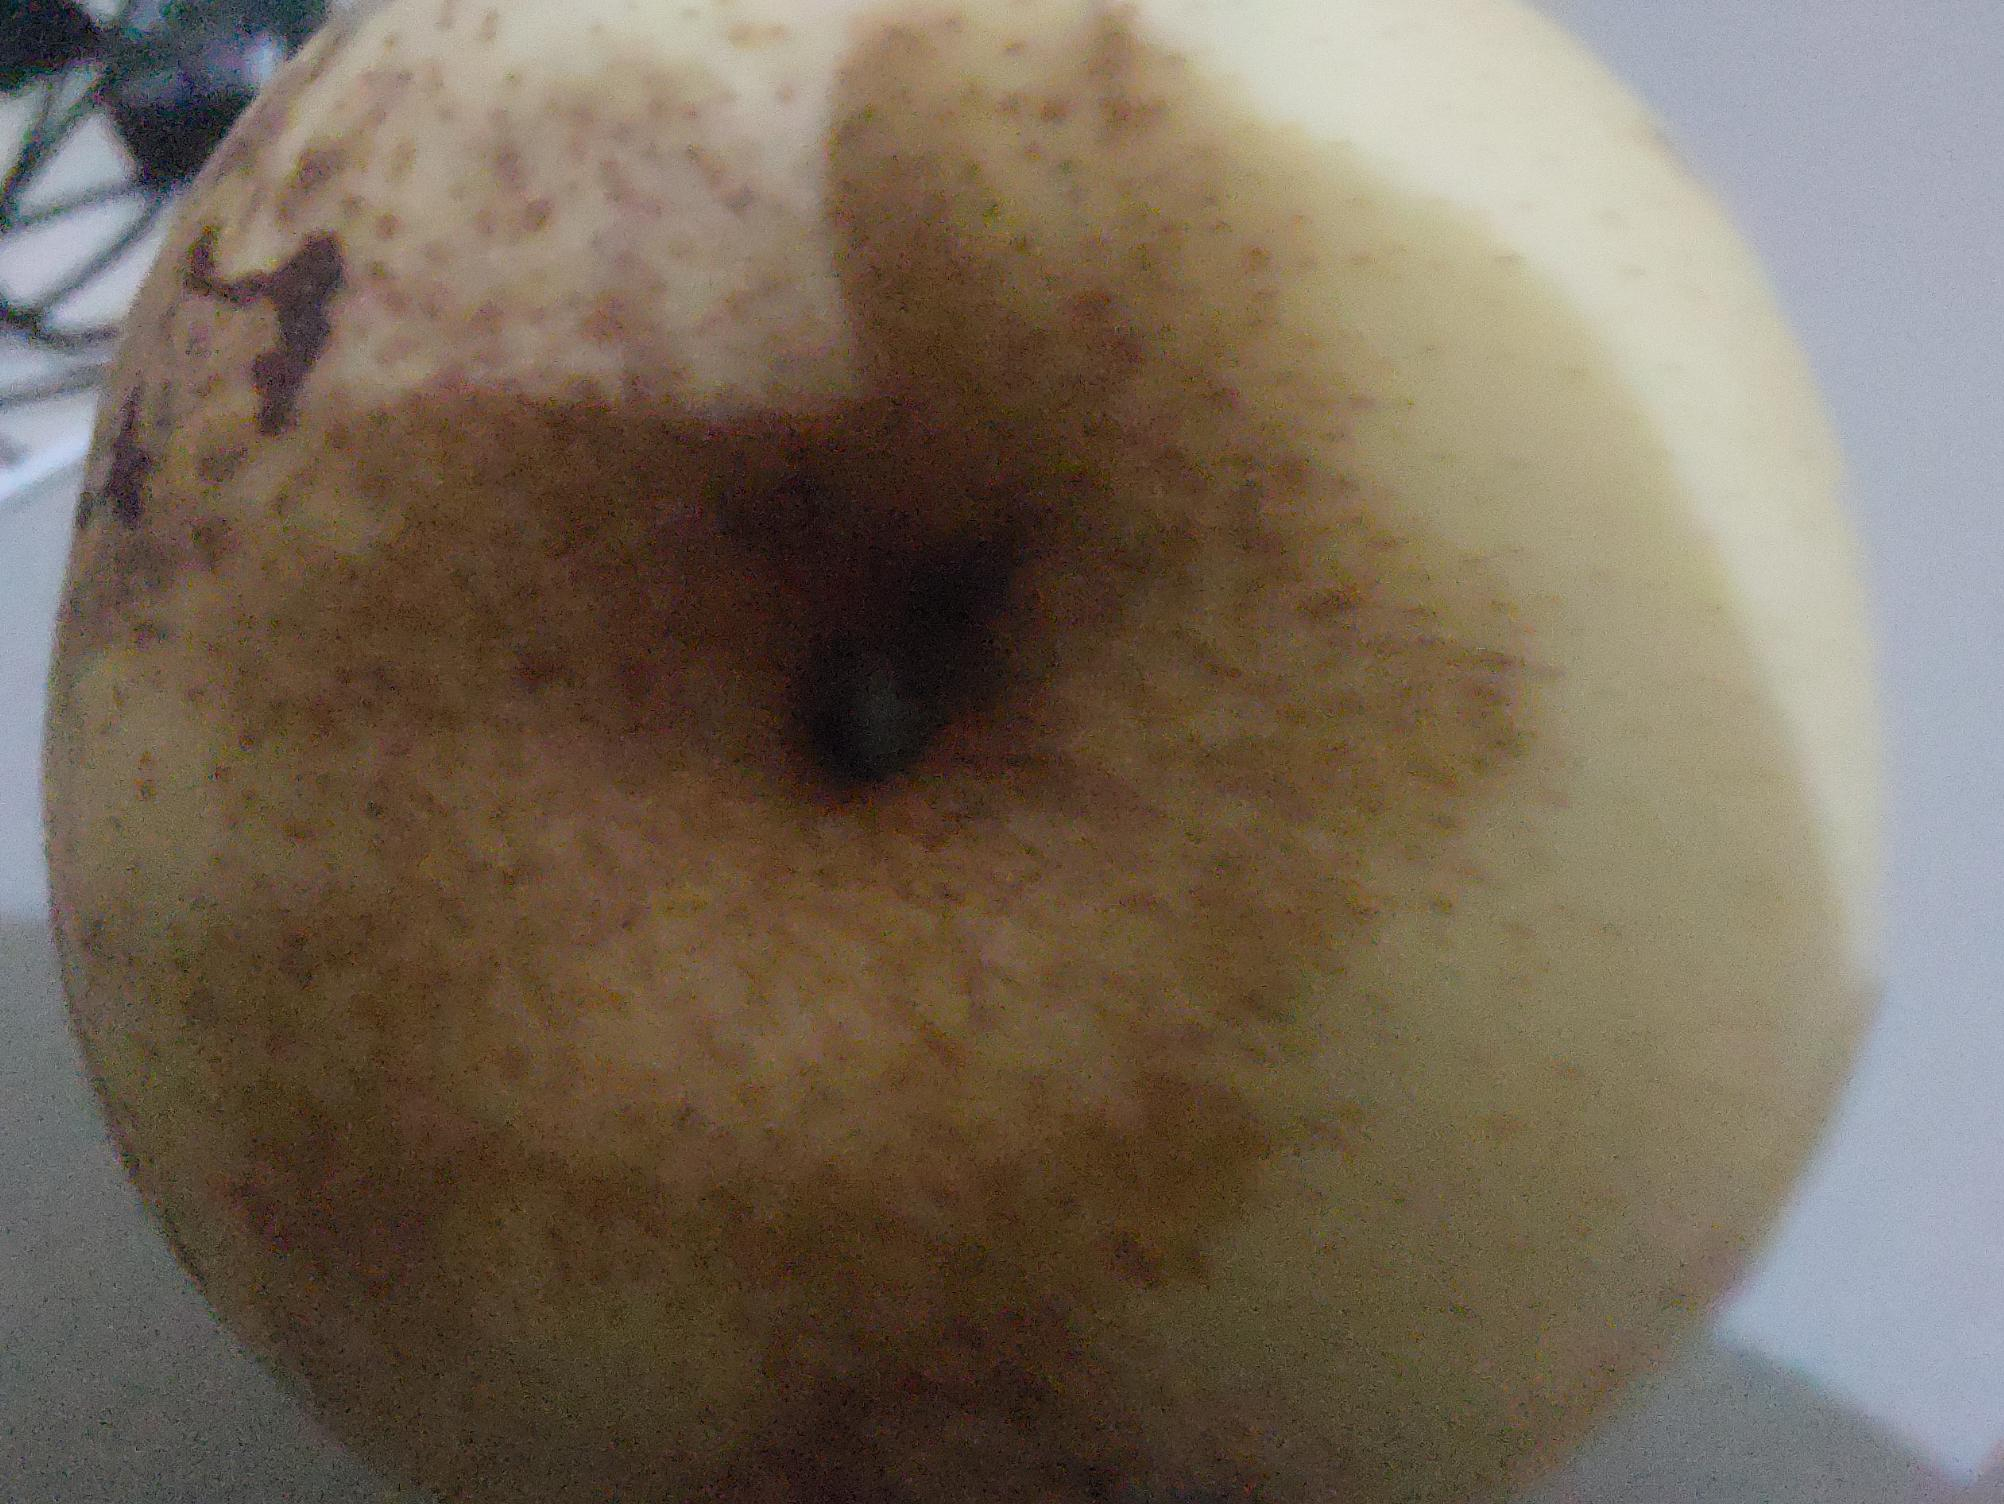Bad Pear: (32, 0, 1898, 1504)
